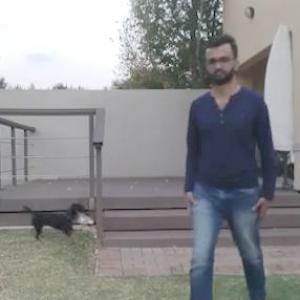follow: (168, 31, 270, 299)
